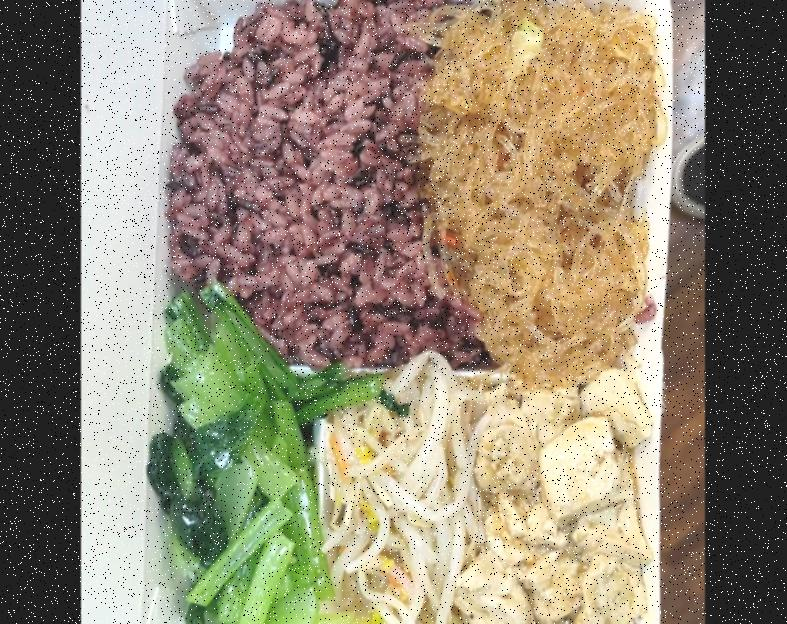box: (143, 0, 690, 624)
purple rice: (163, 0, 492, 373)
side dish: (439, 0, 648, 385), (164, 307, 314, 624), (474, 369, 652, 624), (326, 352, 485, 624)
